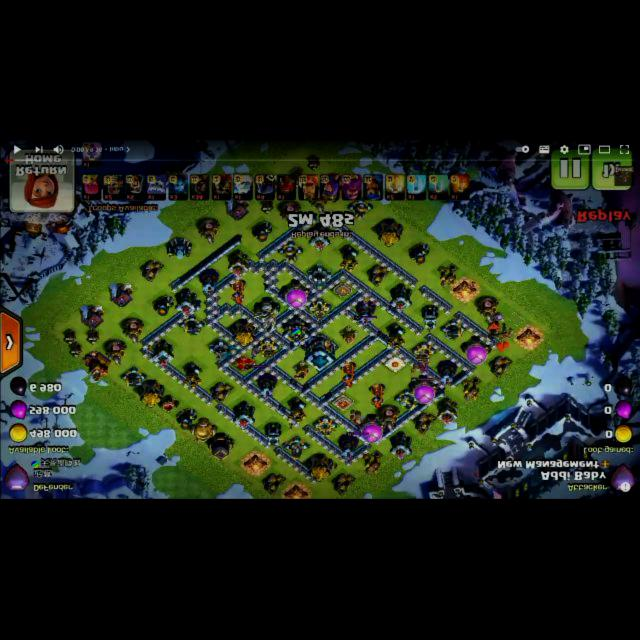AD: (182, 362, 203, 392), (339, 243, 359, 274), (385, 323, 405, 353), (287, 397, 306, 427)
AirSweeper: (291, 361, 311, 382), (340, 326, 359, 347)
BombTower: (422, 306, 438, 334), (265, 423, 281, 450)
Canon: (283, 437, 310, 461), (394, 389, 421, 412), (440, 319, 467, 342), (278, 242, 303, 266), (347, 198, 373, 221), (179, 315, 206, 337), (120, 367, 146, 389)
ClanCastle: (282, 315, 311, 348)
Eagle: (253, 297, 280, 332)
Inferno: (369, 384, 385, 410), (229, 280, 245, 305), (341, 363, 356, 389)
KingPad: (332, 396, 355, 414)
Mortar: (408, 242, 431, 265), (251, 220, 274, 243), (176, 408, 198, 432), (152, 294, 174, 317)
QueenPad: (232, 356, 256, 373)
RcPad: (332, 283, 352, 299)
Scattershot: (208, 337, 238, 362), (307, 262, 332, 291)
TH13: (304, 335, 337, 375)
WardenPad: (384, 358, 406, 374)
WizzTower: (355, 297, 375, 326), (338, 434, 358, 461), (256, 373, 276, 400), (437, 360, 457, 387), (198, 268, 218, 295)
Xbow: (412, 342, 437, 368), (307, 298, 332, 324), (255, 338, 279, 362), (313, 416, 338, 439)
